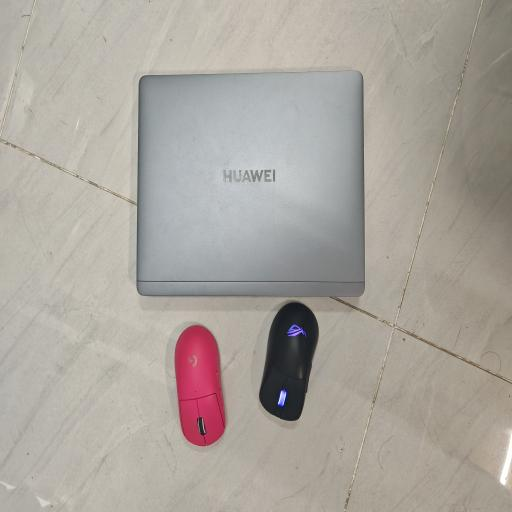laptop: (136, 71, 364, 296)
mouse: (260, 302, 318, 421), (175, 325, 225, 446)
